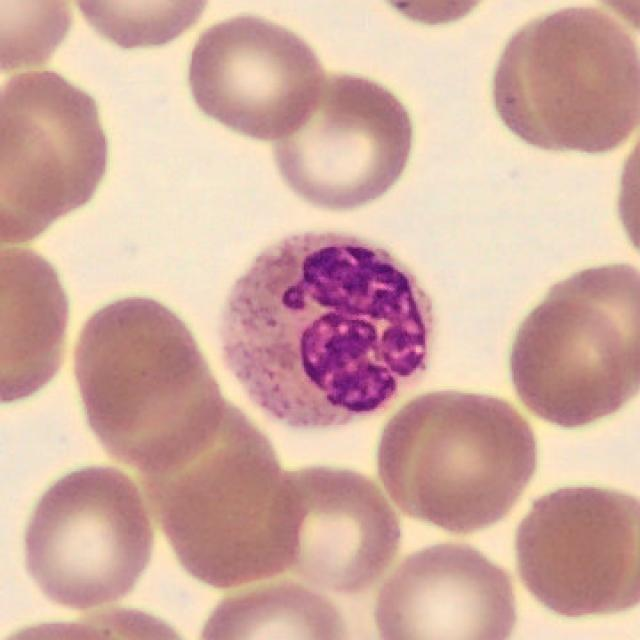Neutrofilo segmentado: (226, 236, 430, 423)
